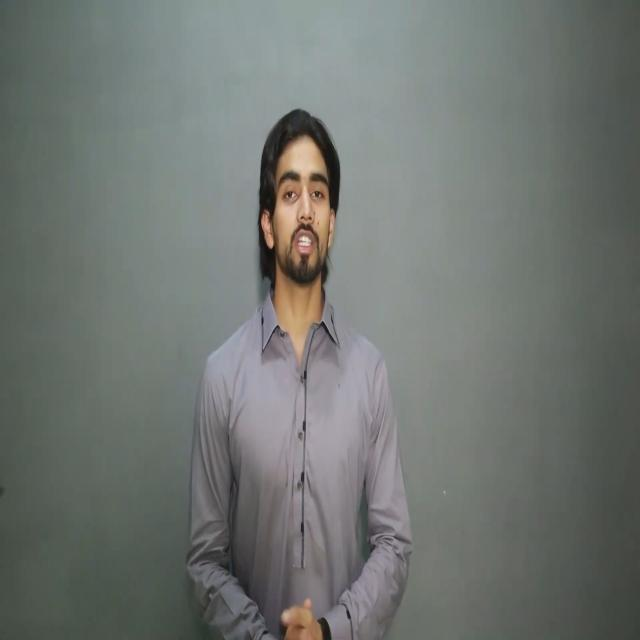dress: (183, 279, 417, 640)
